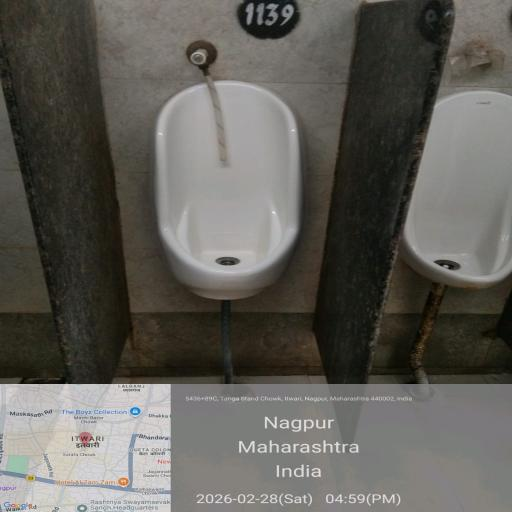clean_floor: (1, 11, 159, 285), (313, 0, 405, 325)
clean_urinal: (154, 87, 295, 287), (420, 98, 512, 279)
partial_dirty_floor: (16, 308, 504, 380)
